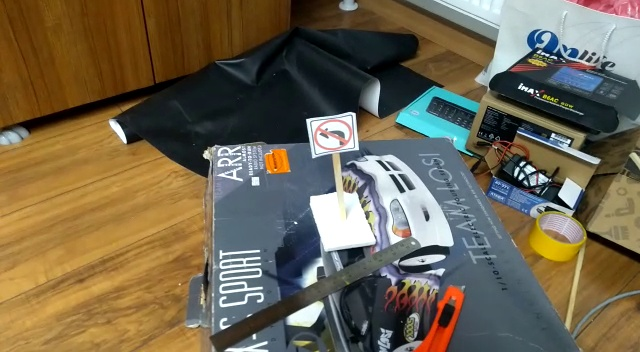sola_donulmez: (312, 112, 356, 149)
